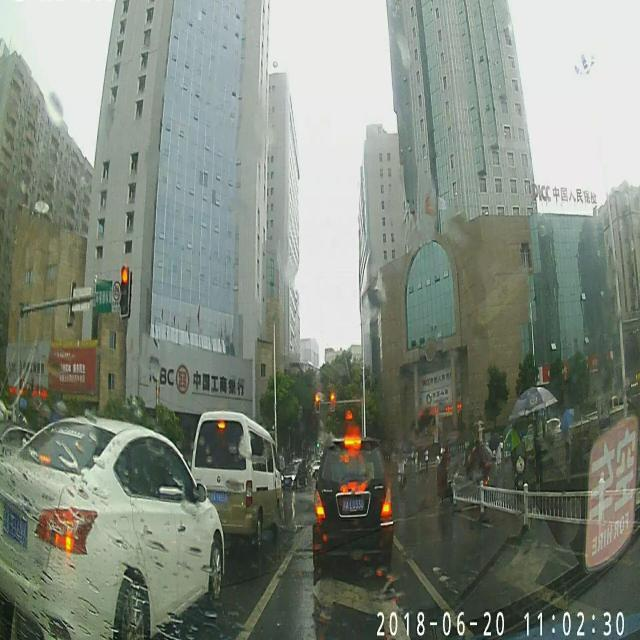car: (0, 412, 224, 639), (192, 412, 282, 542), (311, 440, 395, 578)
